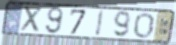7: (68, 8, 87, 36)
9: (44, 7, 65, 35), (111, 11, 132, 39)
I: (94, 9, 106, 38)
O: (133, 12, 156, 40)
X: (20, 5, 45, 34)
